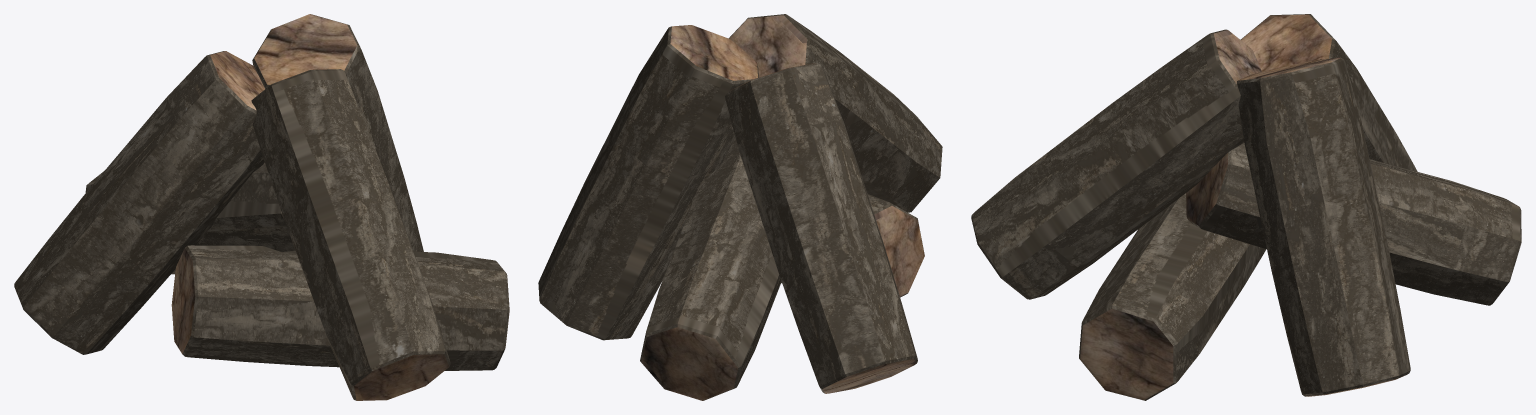
File: Campfire.fbx
3 renders of one model, left to right at view 1: azimuth 30°, elevation 25°; view 2: azimuth 150°, elevation 25°; view 3: azimuth 270°, elevation 25°, orthographic. The views are drawn at different scales.
Visible parts, largest first — view 1: Wood.005, Wood.002, Wood.004, Woodtop.003, Wood.001, Wood.003, Woodtop.002, Woodtop.004, Woodtop.005; view 2: Wood.005, Wood.003, Wood.001, Wood.002, Woodtop.001, Woodtop.002, Woodtop.003, Woodtop.004, Woodtop.005, Wood.004; view 3: Wood.003, Wood.002, Wood.001, Wood.004, Woodtop.004, Woodtop.005, Wood.005, Woodtop.001, Woodtop.002, Woodtop.003.
Part boxes in pixels (x1=…): Wood.005: x1=14, y1=51, x2=264, y2=354; Wood.002: x1=251, y1=69, x2=450, y2=400; Wood.004: x1=182, y1=245, x2=509, y2=370; Woodtop.003: x1=254, y1=14, x2=357, y2=84; Wood.001: x1=85, y1=162, x2=296, y2=274; Wood.003: x1=252, y1=14, x2=423, y2=251; Woodtop.002: x1=354, y1=354, x2=448, y2=400; Woodtop.004: x1=171, y1=248, x2=509, y2=353; Woodtop.005: x1=210, y1=51, x2=264, y2=110; Wood.005: x1=725, y1=63, x2=917, y2=393; Wood.003: x1=538, y1=26, x2=758, y2=340; Wood.001: x1=640, y1=137, x2=781, y2=400; Wood.002: x1=729, y1=14, x2=942, y2=212; Woodtop.001: x1=641, y1=327, x2=737, y2=400; Woodtop.002: x1=729, y1=15, x2=806, y2=77; Woodtop.003: x1=670, y1=25, x2=757, y2=80; Woodtop.004: x1=874, y1=206, x2=924, y2=296; Woodtop.005: x1=731, y1=63, x2=916, y2=393; Wood.004: x1=781, y1=194, x2=924, y2=297; Wood.003: x1=1237, y1=58, x2=1410, y2=396; Wood.002: x1=971, y1=29, x2=1244, y2=299; Wood.001: x1=1188, y1=143, x2=1521, y2=305; Wood.004: x1=1079, y1=193, x2=1266, y2=400; Woodtop.004: x1=1080, y1=308, x2=1173, y2=399; Woodtop.005: x1=1241, y1=14, x2=1331, y2=71; Wood.005: x1=1240, y1=14, x2=1417, y2=171; Woodtop.001: x1=1186, y1=153, x2=1227, y2=225; Woodtop.002: x1=1214, y1=30, x2=1261, y2=83; Woodtop.003: x1=1237, y1=57, x2=1407, y2=396.
Bounding box in the file's own units: 728 × 545 × 891.
